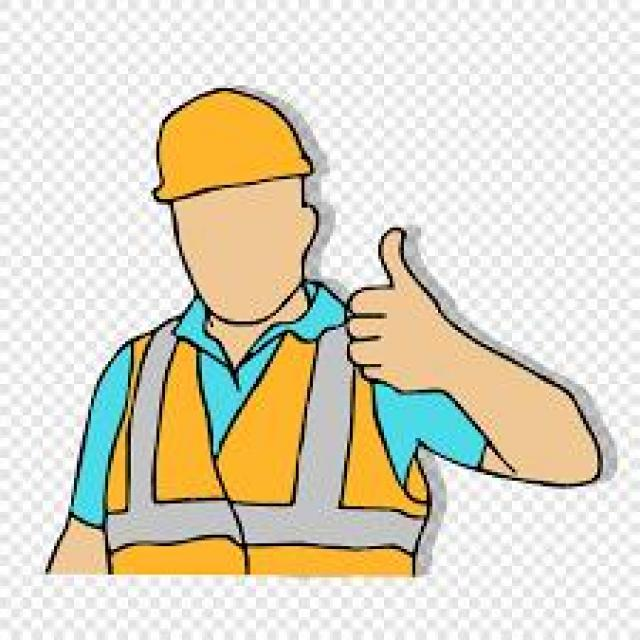Reflective-Jacket: (91, 296, 435, 583)
Safety-Helmet: (142, 86, 324, 210)
